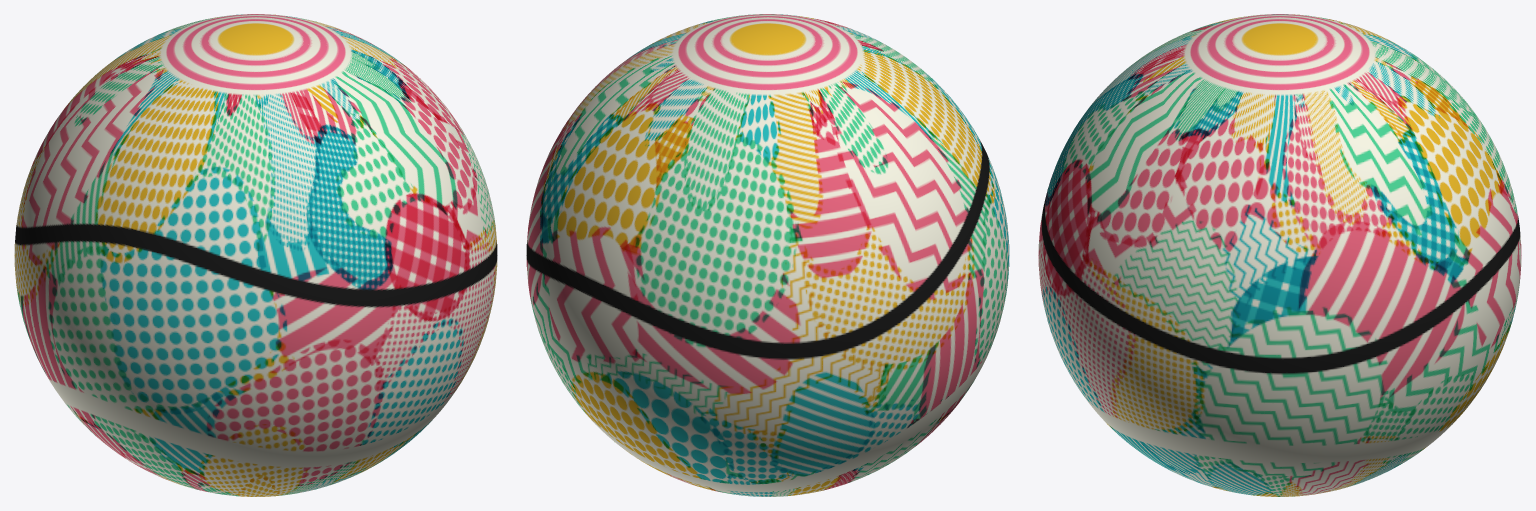
The picture shows the model from 3 angles, left to right: view 1: azimuth 30°, elevation 25°; view 2: azimuth 150°, elevation 25°; view 3: azimuth 270°, elevation 25°; orthographic projection.
Parts seen in each view (by area): view 1: marble; view 2: marble; view 3: marble.
Part boxes in pixels (left/top/right/bottom): marble: left=14, top=14, right=497, bottom=496; marble: left=526, top=14, right=1009, bottom=496; marble: left=1038, top=14, right=1521, bottom=496.
Size of the model in its own units: 2 by 2 by 2.
1 material, 1 textured.
